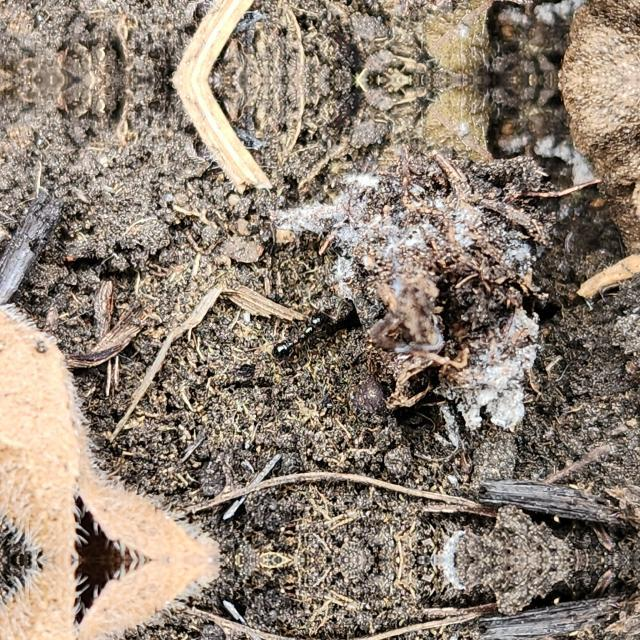Temnothorax: (260, 301, 342, 364)
